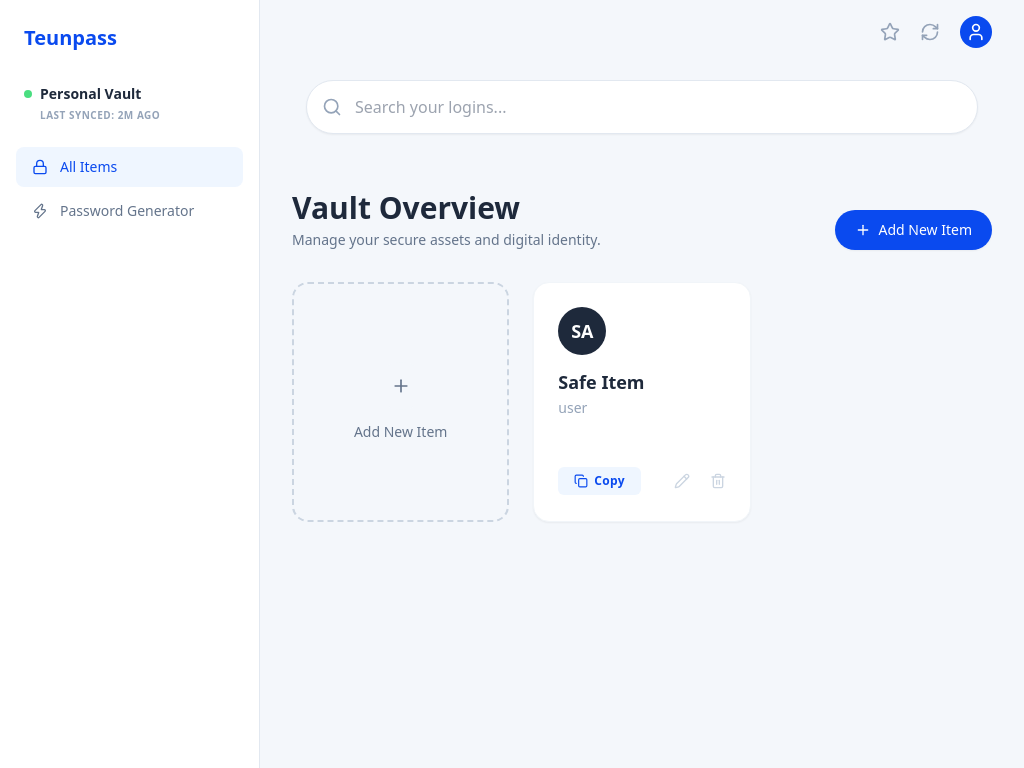
VaultDashboard (TC-04) › securely handles XSS payload in search without rendering HTML
This screenshot has width=1024, height=768.
Check: the heading "Safe Item" is shown, box [558, 370, 644, 394]
# Paste XSS payload
Type "<script>alert('xss')</script>" into the field with placeholder "Search your logins...".
click(642, 107); type("<script>alert('xss')</script>")  # box [306, 80, 978, 134]
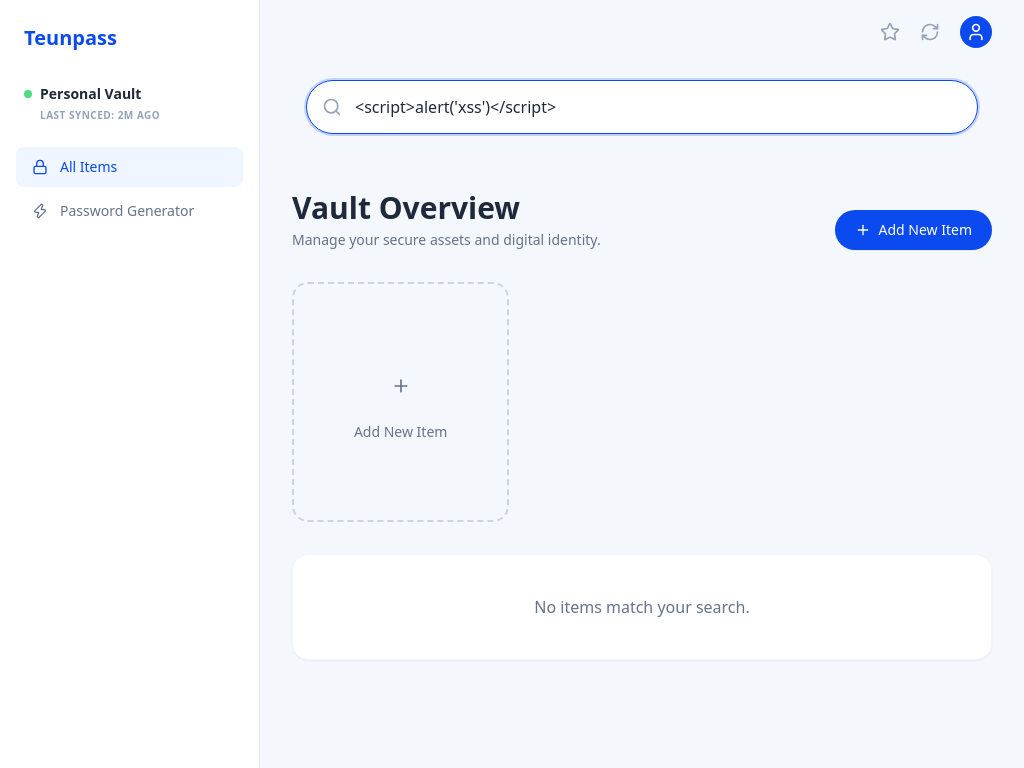
Check: the heading "Safe Item" is gone
Check: the text "No items match your search." is shown, box [292, 554, 992, 660]
